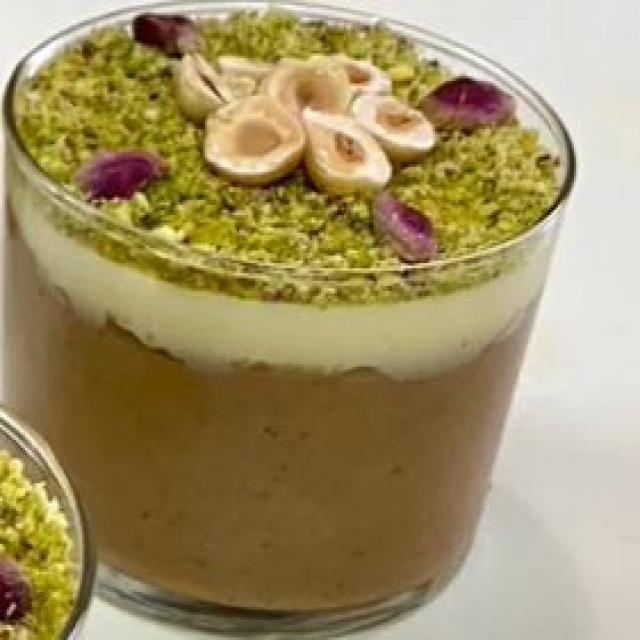asida-zkoukou: (16, 5, 593, 622)
